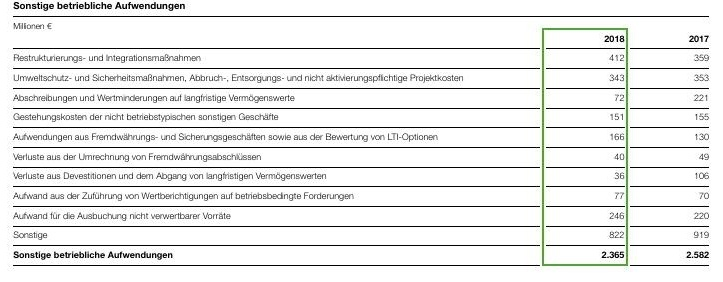table: (0, 0, 723, 282)
